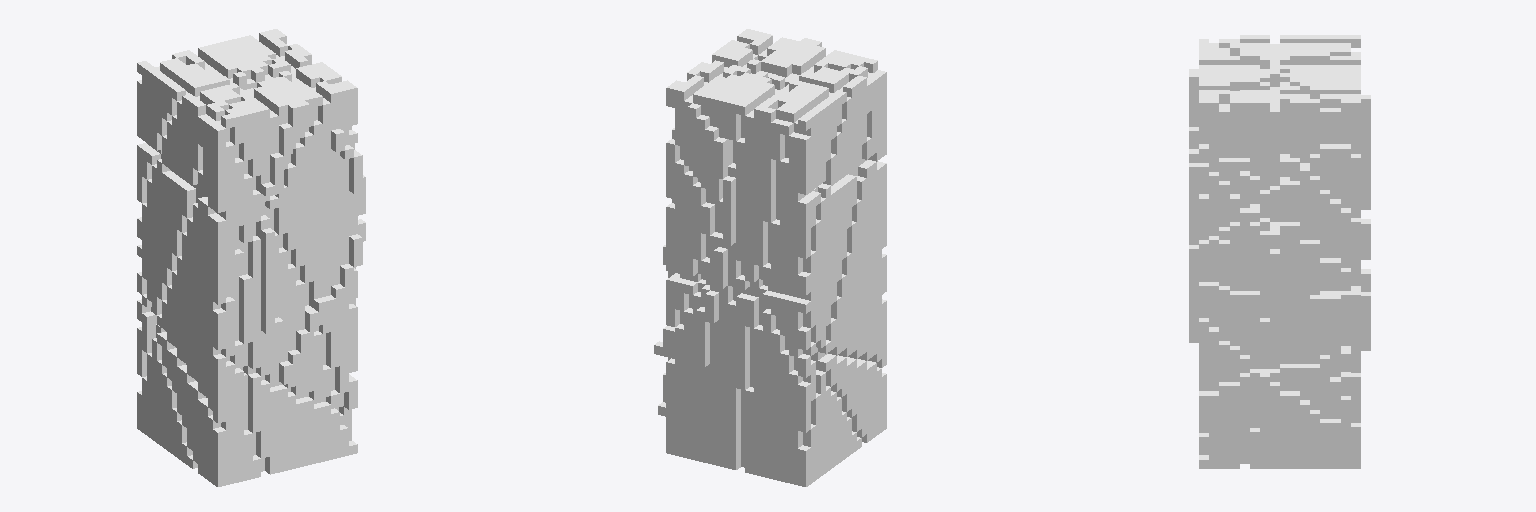
Rendered from BigStone.obj.
3 renders of one model, left to right at view 1: azimuth 30°, elevation 25°; view 2: azimuth 150°, elevation 25°; view 3: azimuth 270°, elevation 25°, orthographic.
Parts seen in each view (by area): view 1: object 1; view 2: object 1; view 3: object 1.
Boxes of the visible parts, <box> form: object 1: <box>137,29,365,486</box>; object 1: <box>654,29,886,486</box>; object 1: <box>1189,35,1370,468</box>.
Size of the model in its own units: 1.8 by 4 by 1.8.